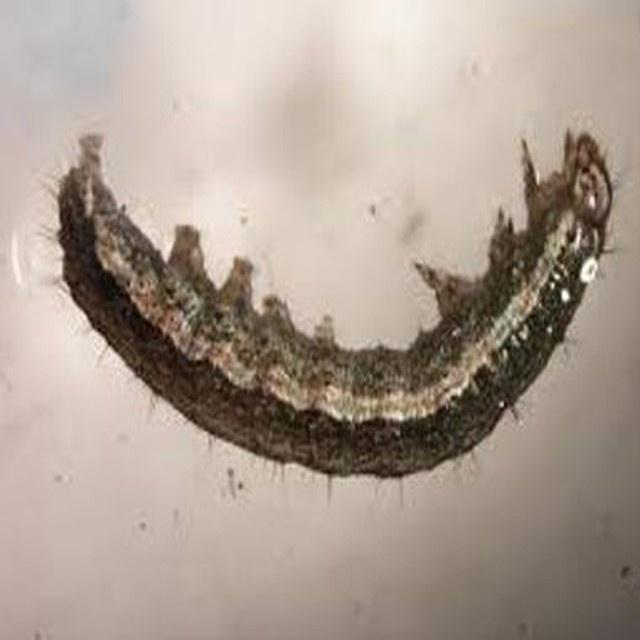gusano_cogollero: (59, 124, 612, 488)
